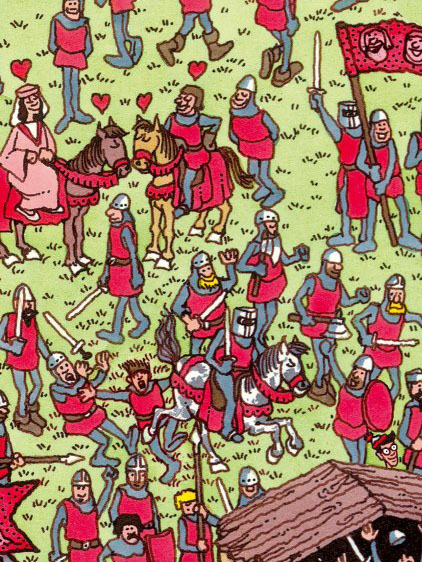waldo: (368, 431, 401, 469)
